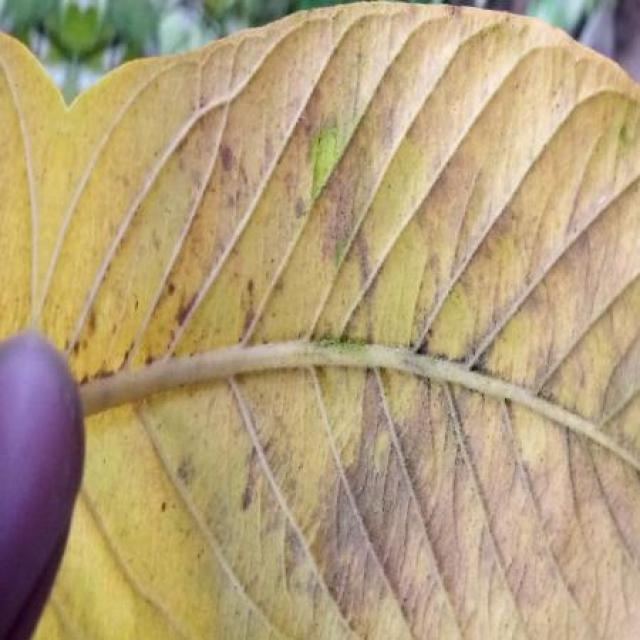Red Rust: (0, 4, 640, 640)
